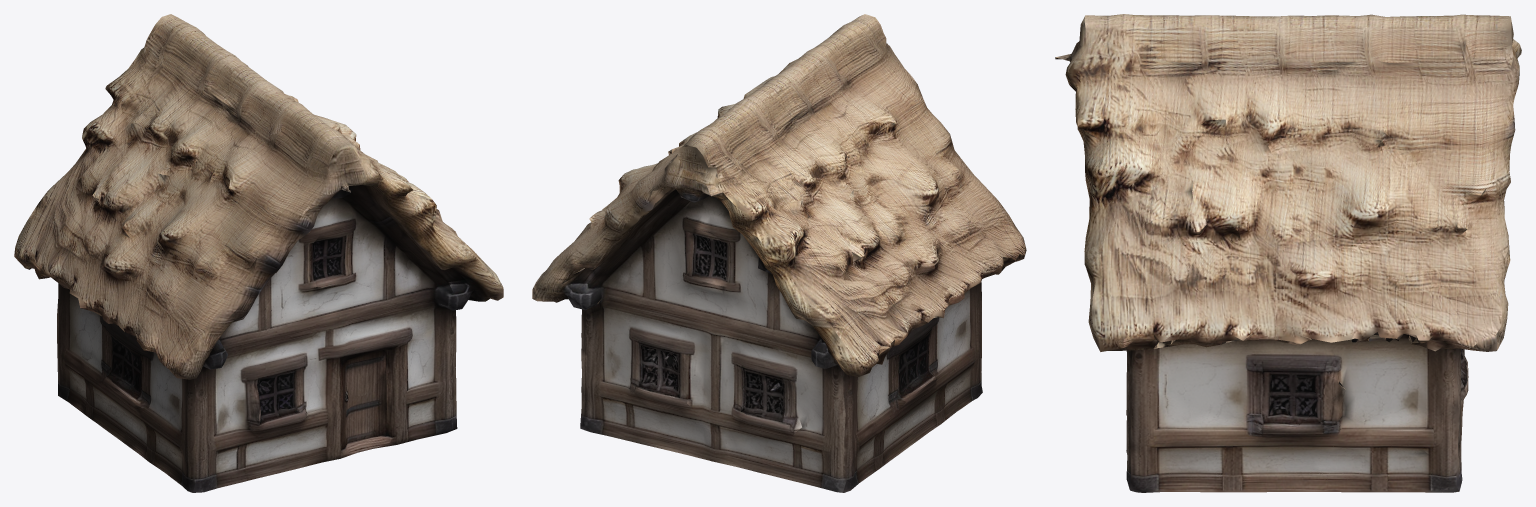
Rendered from peasant_house_a.glb.
3 renders of one model, left to right at view 1: azimuth 30°, elevation 25°; view 2: azimuth 150°, elevation 25°; view 3: azimuth 270°, elevation 25°, orthographic. The views are drawn at different scales.
Parts seen in each view (by area): view 1: Medieval Cottage Miniature; view 2: Medieval Cottage Miniature; view 3: Medieval Cottage Miniature.
Part boxes in pixels (x1,y1,x2,y2): Medieval Cottage Miniature: (14,14,503,492); Medieval Cottage Miniature: (532,14,1026,492); Medieval Cottage Miniature: (1055,14,1521,492).
Bounding box in the file's own units: 6.36 × 6 × 6.3.
Materials: 1 (1 with a texture image).
